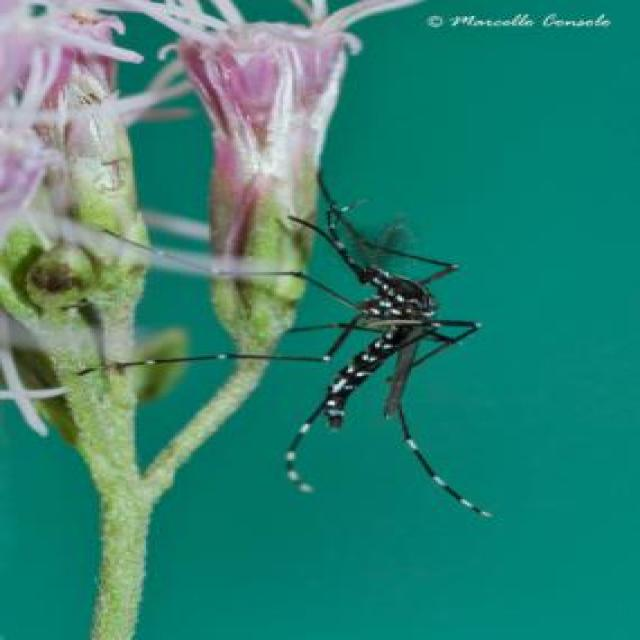antennae: (352, 206, 414, 291)
body: (329, 270, 438, 428)
insect: (78, 184, 508, 526)
legs: (84, 186, 360, 390), (282, 354, 505, 518)
mouthpart: (281, 198, 385, 285)
wings: (383, 325, 425, 418)
